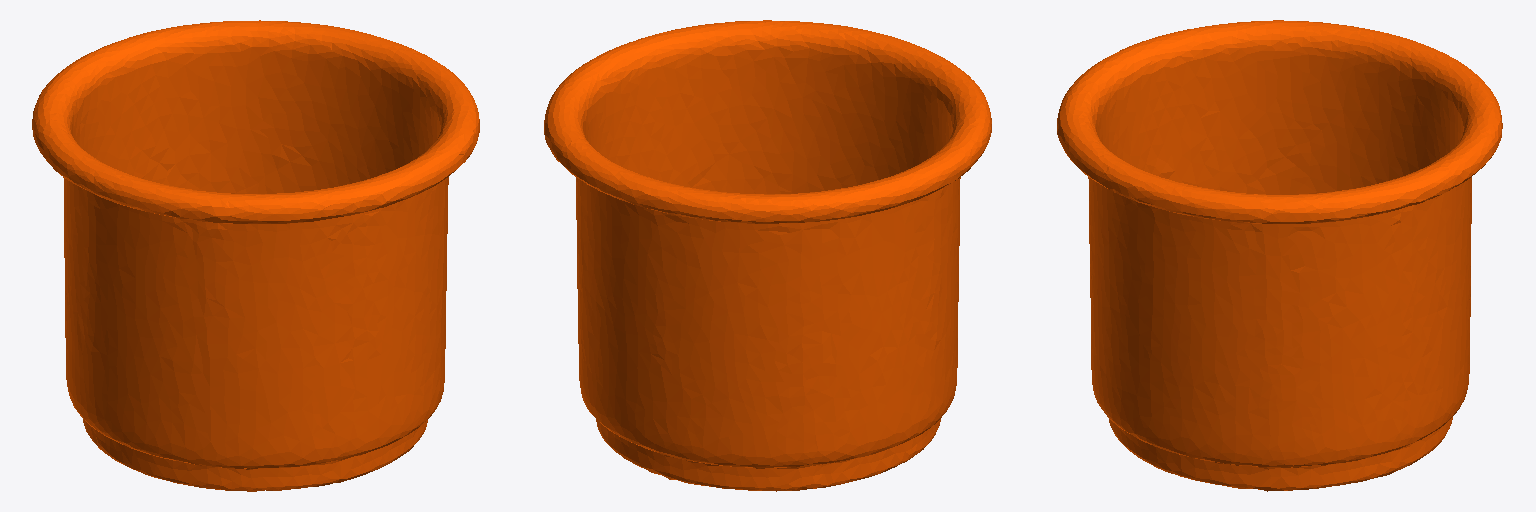
URDF robot description (065-i_cups):
<?xml version="1.0" ?>
<robot name="065-i_cups">
   <material name="obj_color">
      <color rgba="1.0 0.423529411765 0.0392156862745 1.0"/>
   </material>
   <link name="top">
      <inertial>
         <origin rpy="0.0001350276390609751 0.000135605364888558 0.0001525472470740578" xyz="0.0004768405196436631 0.0002546842045001643 0.00130096176114941"/>
         <mass value="0.09715388833723682"/>
         <inertia ixx="0.0001355237558901615" ixy="-2.010569114113416e-07" ixz="3.116380547249932e-08" iyy="0.0001351101468400449" iyz="1.215099247340077e-07" izz="0.0001525463482933845"/>
      </inertial>
      <visual>
         <origin rpy="0 0 0" xyz="0 0 0"/>
         <geometry>
            <mesh filename="top_watertight_tiny.stl" scale="1 1 1"/>
         </geometry>
         <material name="obj_color"/>
      </visual>
      <collision>
         <origin rpy="0 0 0" xyz="0 0 0"/>
         <geometry>
            <mesh filename="top_watertight_tiny.obj" scale="1 1 1"/>
         </geometry>
      </collision>
   </link>
   <link name="bottom">
      <inertial>
         <origin rpy="1.633333333199431e-08 1.633333333199431e-08 1.633333333362855e-08" xyz="0.3464080000000008 0.3464080000000008 0.3464080000000008"/>
         <mass value="0.0009800000000000017"/>
         <inertia ixx="1.633333333253906e-08" ixy="5.447480642029219e-19" ixz="5.447480642029219e-19" iyy="1.633333333253906e-08" iyz="5.447480642029219e-19" izz="1.633333333253906e-08"/>
      </inertial>
      <visual>
         <origin rpy="0 0 0" xyz="0 0 0"/>
         <geometry>
            <mesh filename="bottom_watertight_tiny.stl" scale="1 1 1"/>
         </geometry>
         <material name="obj_color"/>
      </visual>
   </link>
   <joint name="rotation" type="revolute">
      <origin xyz="0 0 0"/>
      <axis xyz="0 0 -1"/>
      <parent link="bottom"/>
      <child link="top"/>
      <dynamics damping="1.0" friction="1.0"/>
      <limit effort="0.1" velocity="0.1" lower="0" upper="0.001"/>
   </joint>
</robot>

--- Facts derived from the render (not from the file) ---
Views: 3 orthographic renders of the robot side by side, from view 1: azimuth 30°, elevation 25°; view 2: azimuth 150°, elevation 25°; view 3: azimuth 270°, elevation 25°.
Model 065-i_cups with 2 links and 1 joints (1 revolute), rooted at bottom, posed every joint at zero.
Visible links, largest first — view 1: top; view 2: top; view 3: top.
Boxes of the visible links, left/top/right/bottom form: top: left=32, top=20, right=479, bottom=491; top: left=544, top=20, right=991, bottom=491; top: left=1057, top=20, right=1502, bottom=491.
Bounding box of the posed robot: 0.0982 × 0.098 × 0.0756 m (x, y, z).
1 mesh visuals loaded from 2 distinct referenced files (1 binary STL); not drawn: 1 (reference not matched to a file when rendering).
